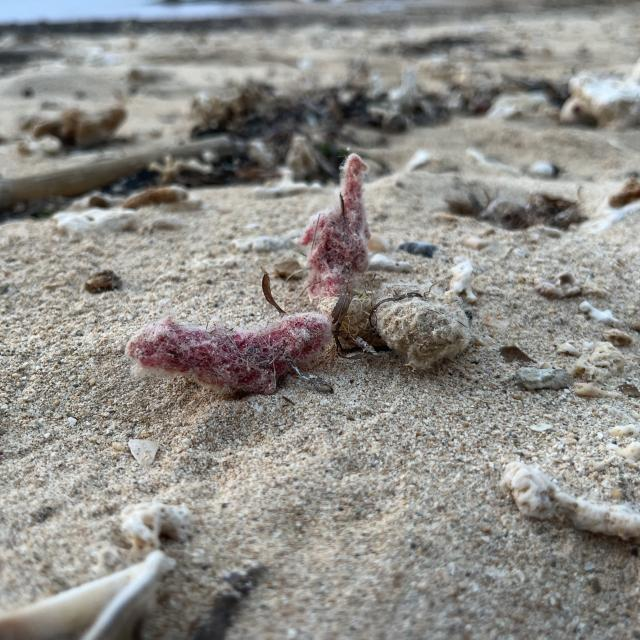stick: (0, 108, 246, 235)
trash: (123, 148, 527, 413)
